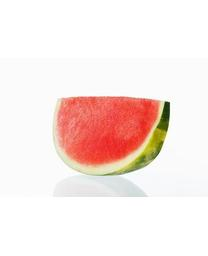watermelon: (47, 94, 173, 177)
